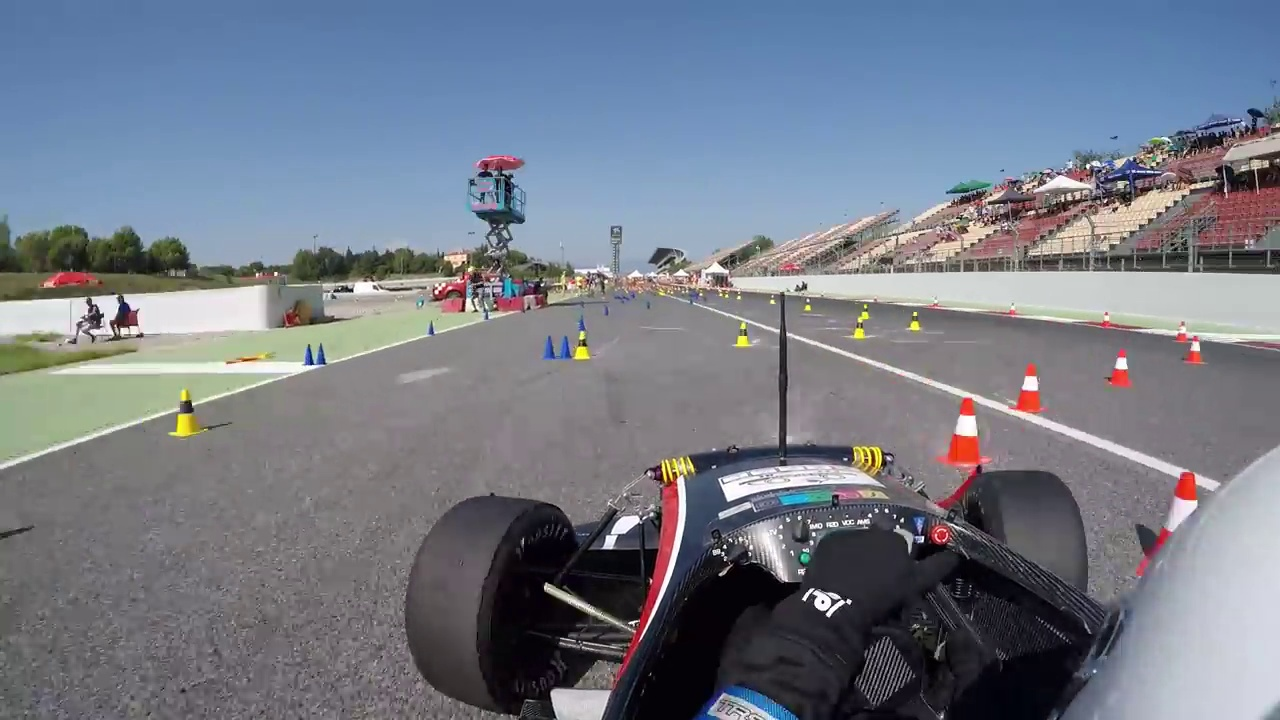Cone: (941, 397, 991, 464), (1012, 359, 1050, 413), (173, 389, 207, 441), (1107, 347, 1139, 385), (573, 327, 593, 363)
